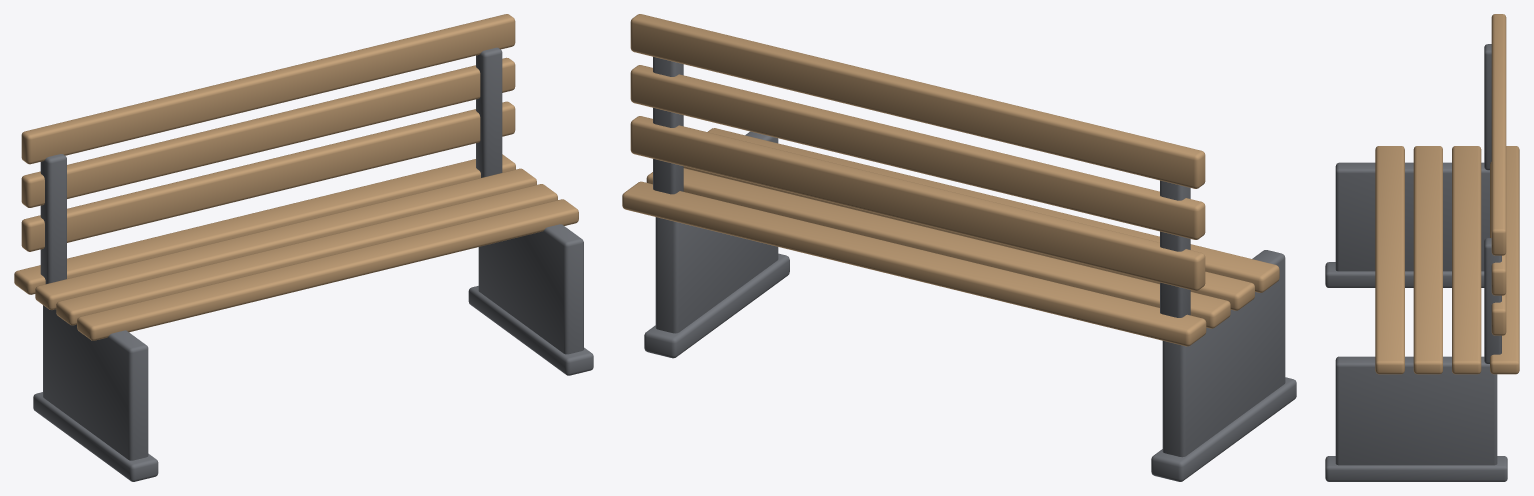
File: th5_parkbank.glb
3 renders of one model, left to right at view 1: azimuth 30°, elevation 25°; view 2: azimuth 150°, elevation 25°; view 3: azimuth 270°, elevation 25°, orthographic. The views are drawn at different scales.
Parts seen in each view (by area): view 1: Cube.006, Cube.004, Cube.005, Cube, Cube.007, Cube.002, Cube.001, Cube.010, Cube.003, Cube.011, Cube.008, Cube.009 (+1 smaller); view 2: Cube.006, Cube.004, Cube.005, Cube.003, Cube.007, Cube.002, Cube.010, Cube, Cube.012, Cube.009, Cube.001, Cube.008 (+1 smaller); view 3: Cube.010, Cube.007, Cube, Cube.001, Cube.002, Cube.006, Cube.003, Cube.012, Cube.011, Cube.009, Cube.008, Cube.004 (+1 smaller).
Boxes of the visible parts, bbox=[...] form: Cube.006: bbox=[21, 14, 515, 164]; Cube.004: bbox=[21, 101, 515, 251]; Cube.005: bbox=[21, 57, 515, 207]; Cube: bbox=[77, 199, 578, 340]; Cube.007: bbox=[43, 305, 148, 460]; Cube.002: bbox=[35, 168, 536, 309]; Cube.001: bbox=[56, 184, 557, 325]; Cube.010: bbox=[478, 224, 583, 354]; Cube.003: bbox=[14, 154, 515, 294]; Cube.011: bbox=[476, 47, 502, 177]; Cube.008: bbox=[40, 154, 66, 283]; Cube.009: bbox=[33, 392, 158, 481]; Cube.006: bbox=[630, 14, 1205, 188]; Cube.004: bbox=[630, 116, 1205, 290]; Cube.005: bbox=[630, 65, 1205, 239]; Cube.003: bbox=[622, 181, 1206, 346]; Cube.007: bbox=[1162, 250, 1285, 457]; Cube.002: bbox=[646, 168, 1230, 328]; Cube.010: bbox=[655, 131, 778, 333]; Cube: bbox=[707, 128, 1279, 292]; Cube.012: bbox=[644, 253, 789, 358]; Cube.009: bbox=[1151, 377, 1296, 481]; Cube.001: bbox=[683, 166, 1254, 310]; Cube.008: bbox=[1160, 180, 1190, 317]; Cube.010: bbox=[1335, 356, 1497, 465]; Cube.007: bbox=[1335, 162, 1489, 271]; Cube: bbox=[1375, 146, 1404, 374]; Cube.001: bbox=[1413, 146, 1442, 374]; Cube.002: bbox=[1452, 146, 1481, 374]; Cube.006: bbox=[1491, 14, 1506, 255]; Cube.003: bbox=[1490, 146, 1519, 374]; Cube.012: bbox=[1325, 456, 1507, 481]; Cube.011: bbox=[1484, 238, 1501, 363]; Cube.009: bbox=[1325, 262, 1484, 287]; Cube.008: bbox=[1484, 44, 1491, 170]; Cube.004: bbox=[1491, 293, 1506, 335].
Bounding box in the file's own units: 1.75 × 0.97 × 0.66.
